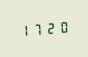one: (18, 22, 30, 38)
seven: (31, 21, 43, 36)
two: (44, 19, 56, 35)
zero: (57, 18, 69, 34)
